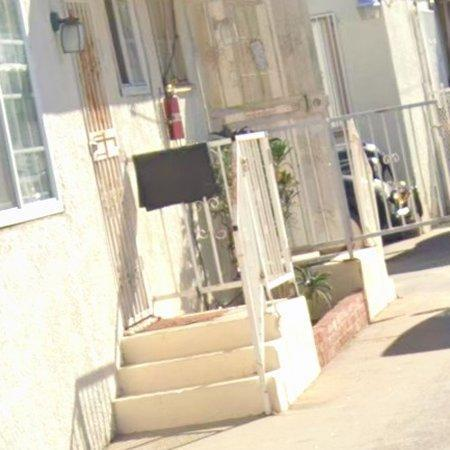stairs: (113, 309, 264, 436)
